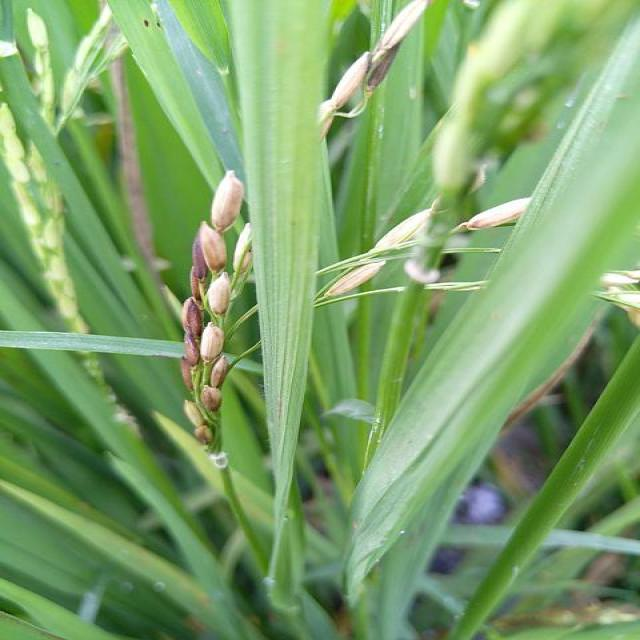Panicle Blight: (180, 173, 244, 451), (317, 0, 432, 134), (456, 199, 529, 232)
